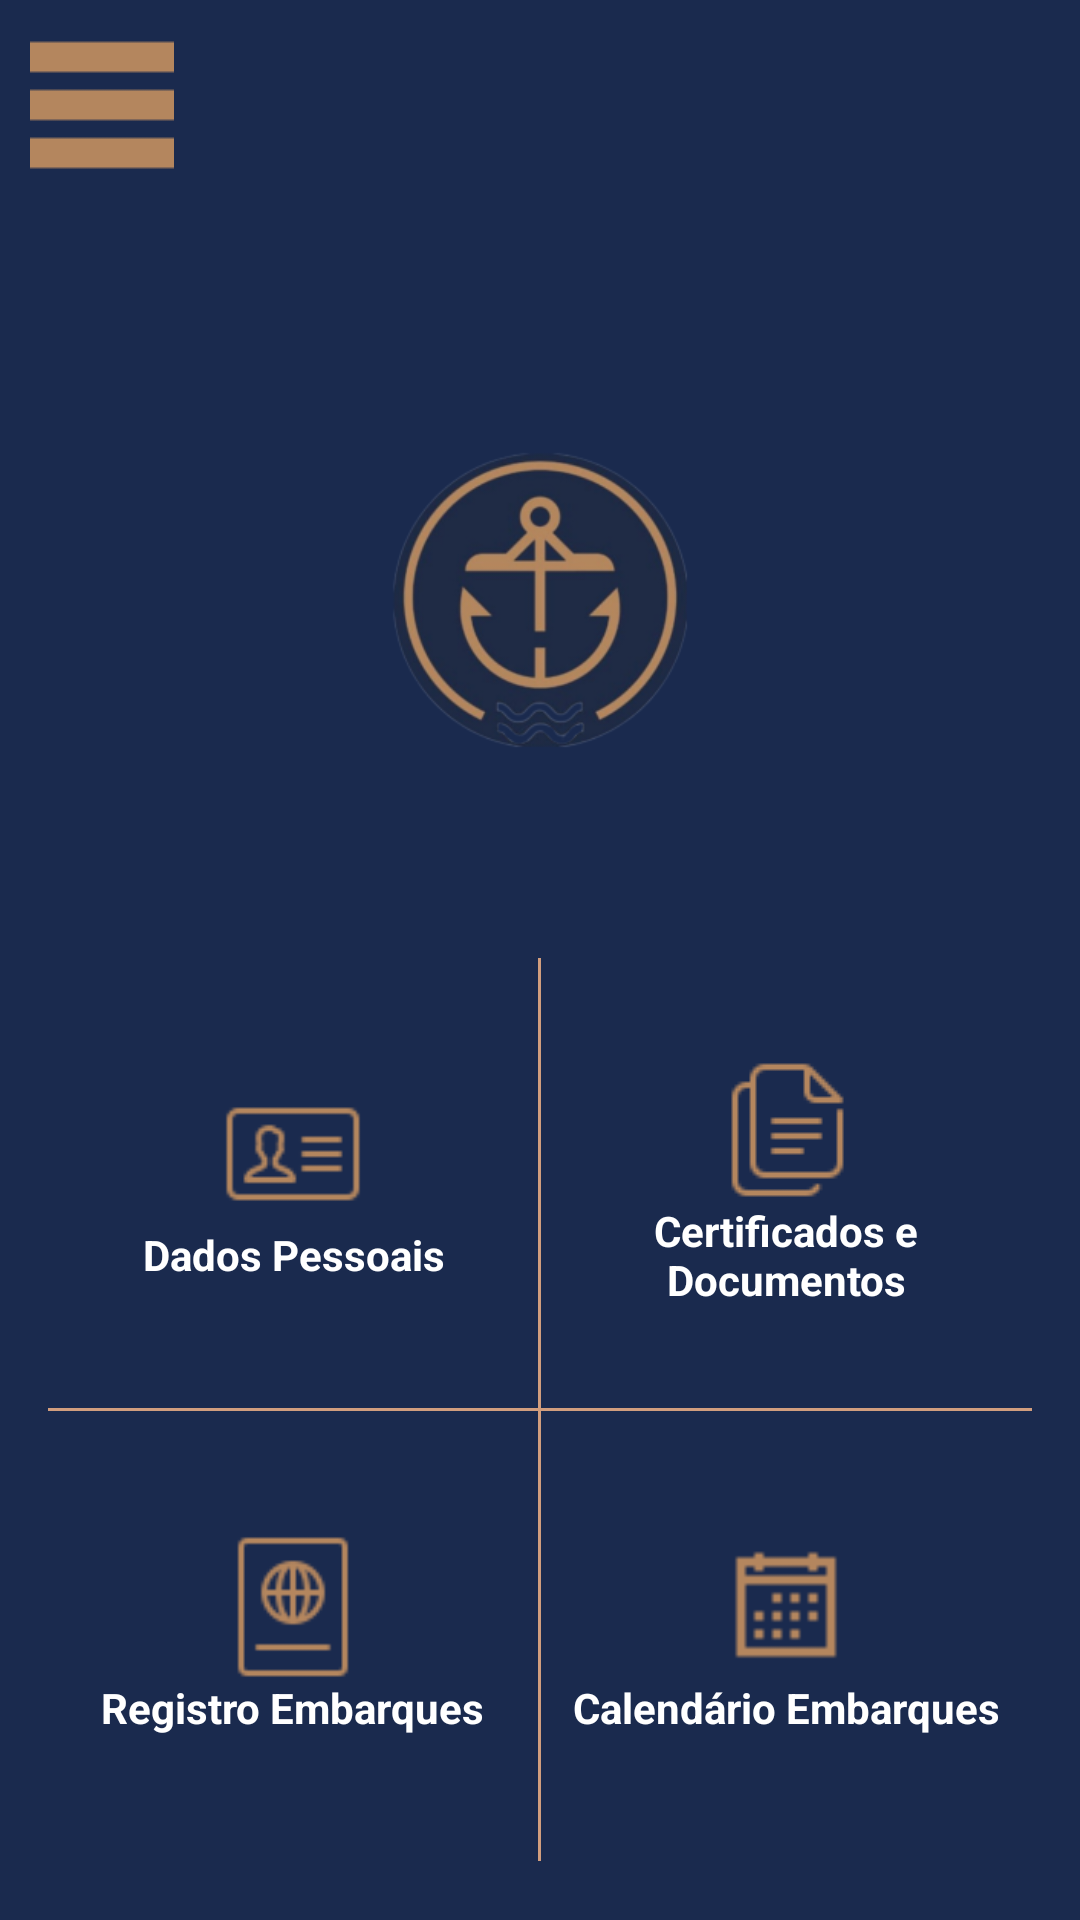

Locate icon controls on the screen. Image size 1080x1920, boxes as box=[x1, y1, x2, y2].
identidade: box=[226, 1107, 360, 1201]
menu: box=[30, 41, 174, 169]
passaporte: box=[237, 1537, 349, 1677]
